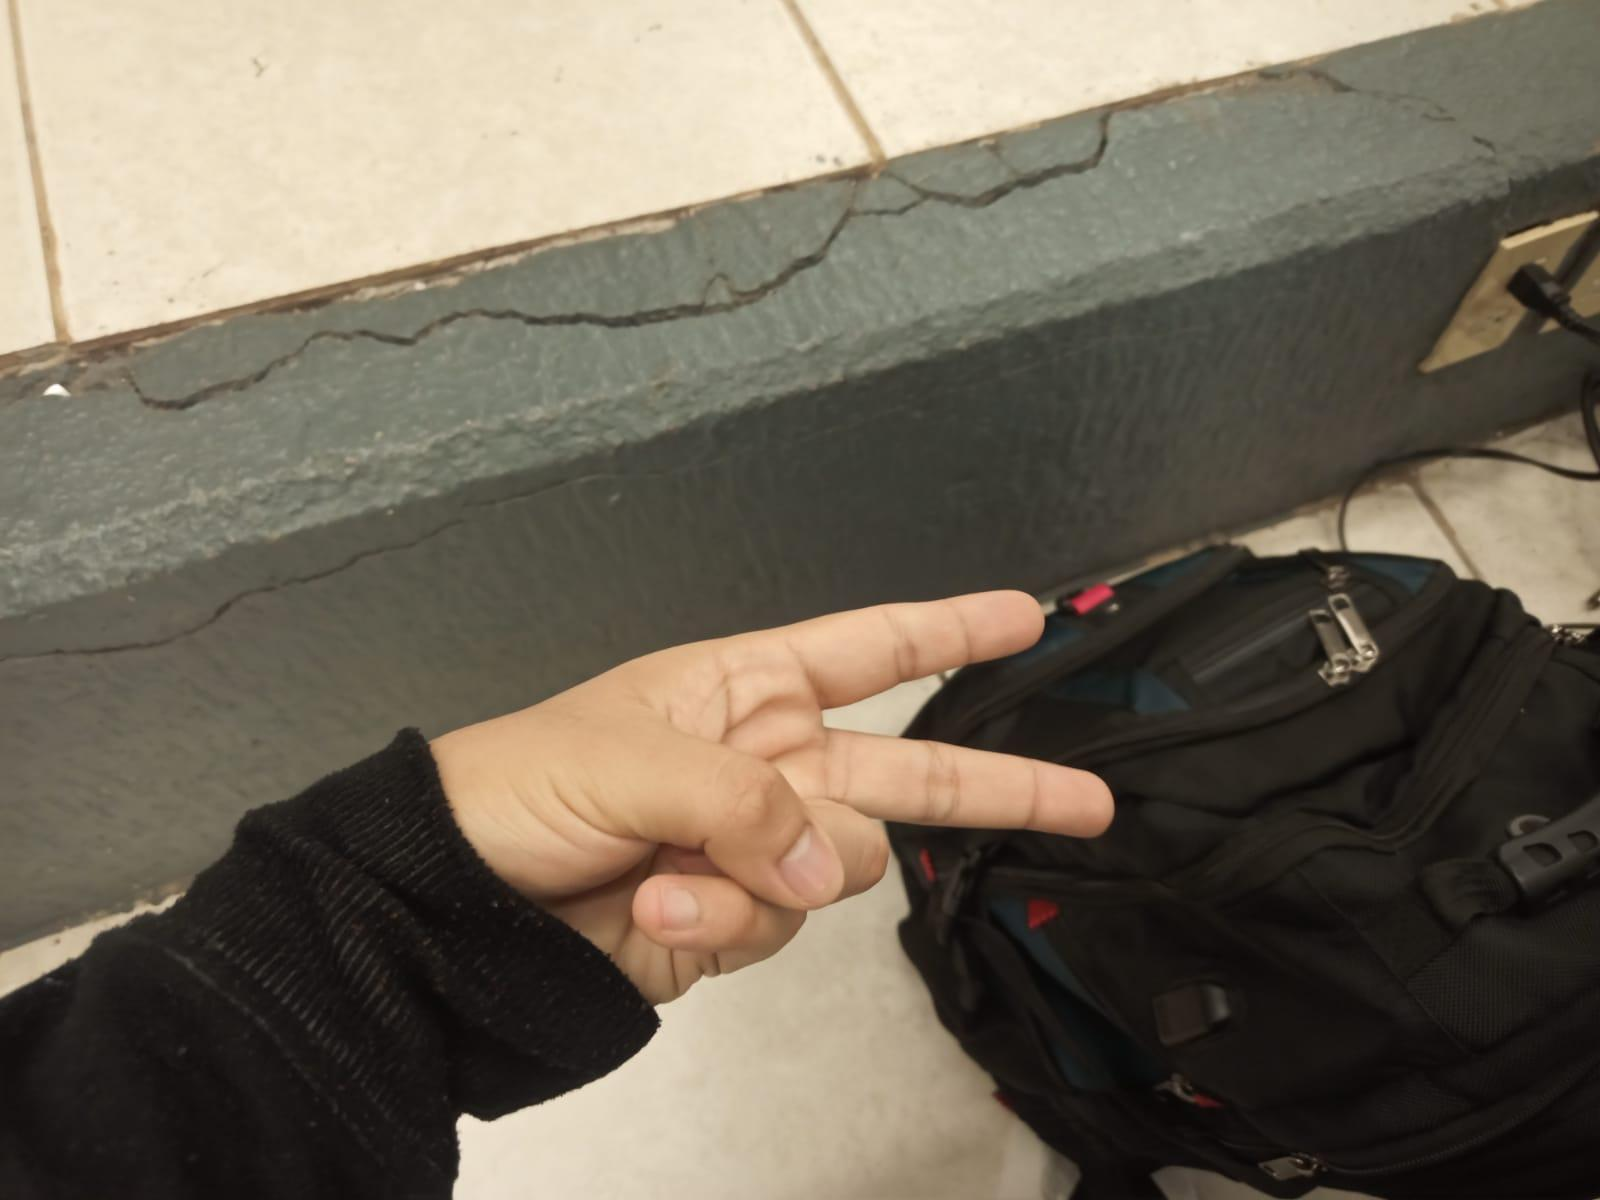Scissor: (404, 522, 1119, 1006)
